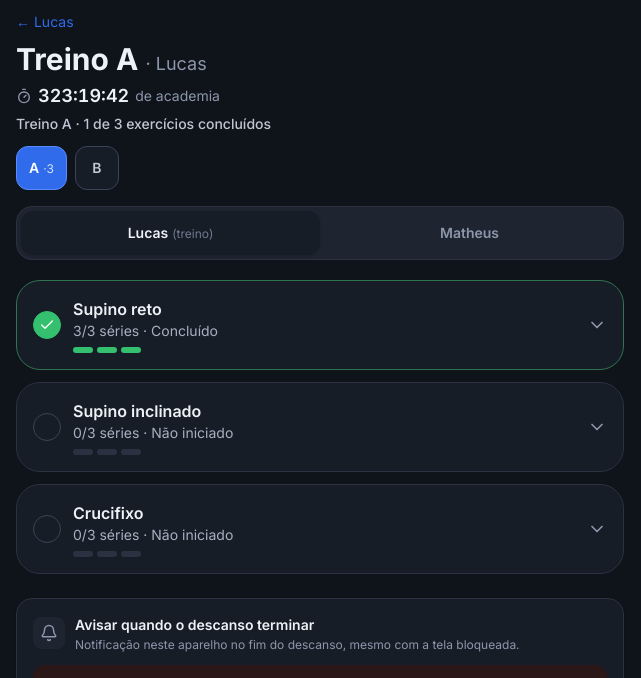
Scenario: ficha com cards de exercício › desfazer uma série atualiza o progresso na hora (3/3 → 2/3) e o indicador do topo
Expected: the text with test id "day-progress" reads "Treino A · 1 de 3 exercícios concluídos", [16, 115, 271, 132]
Click the button "Supino reto 3/3 séries · Concluído" at x=117, y=309, box [17, 281, 623, 369]
(page scrolled)
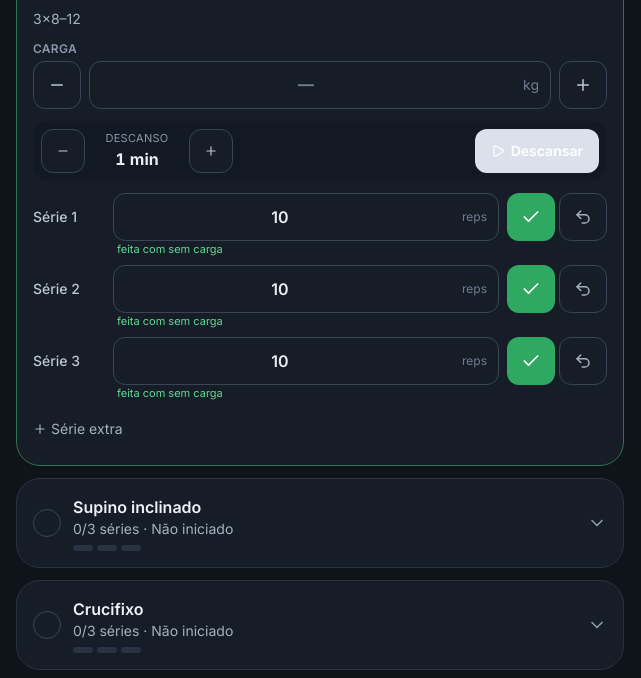
Click the button named "Desfazer série 3" at x=583, y=361, box [559, 337, 607, 385]
(page scrolled)
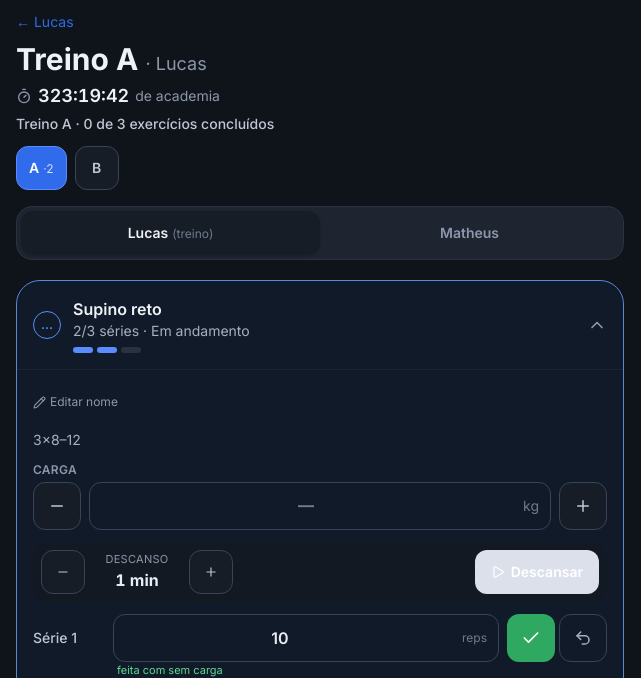
Expected: the text with test id "day-progress" reads "Treino A · 0 de 3 exercícios concluídos", [16, 115, 274, 132]
